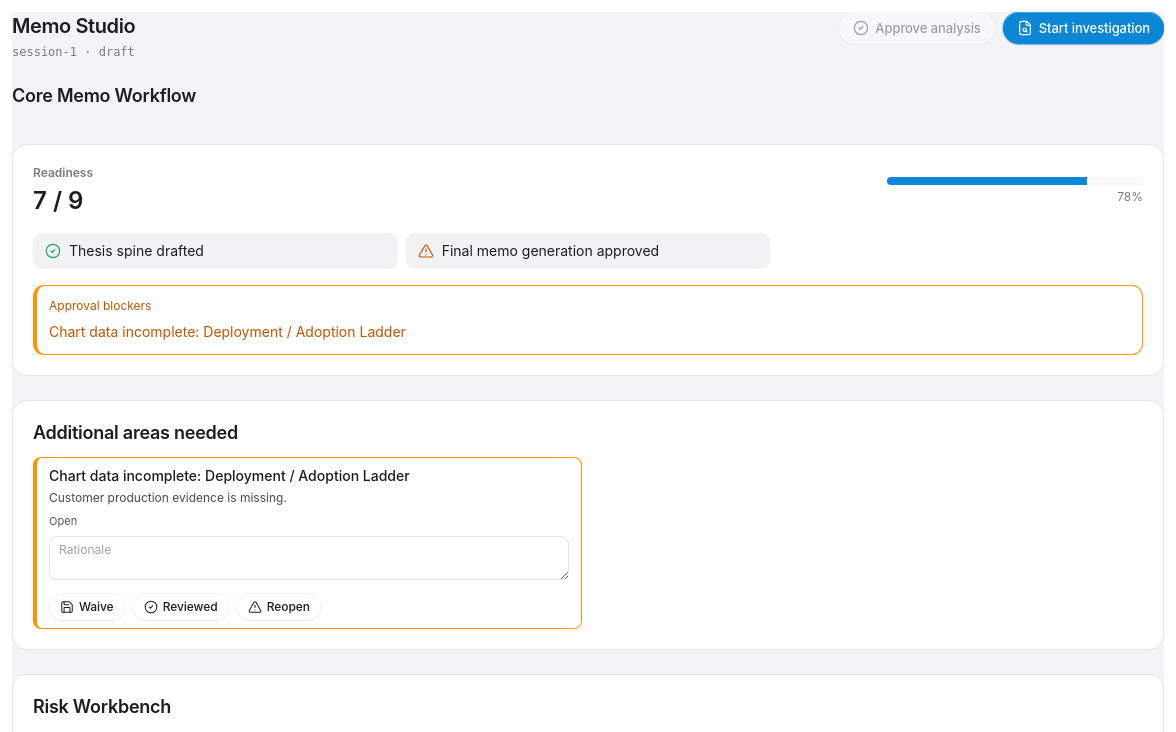
Test: MemoAnalysisDashboard › starts the strategic investigation before report generation
The image size is (1176, 732).
Click the button "Start investigation" at point(1083, 28), box [1003,12,1164,44]
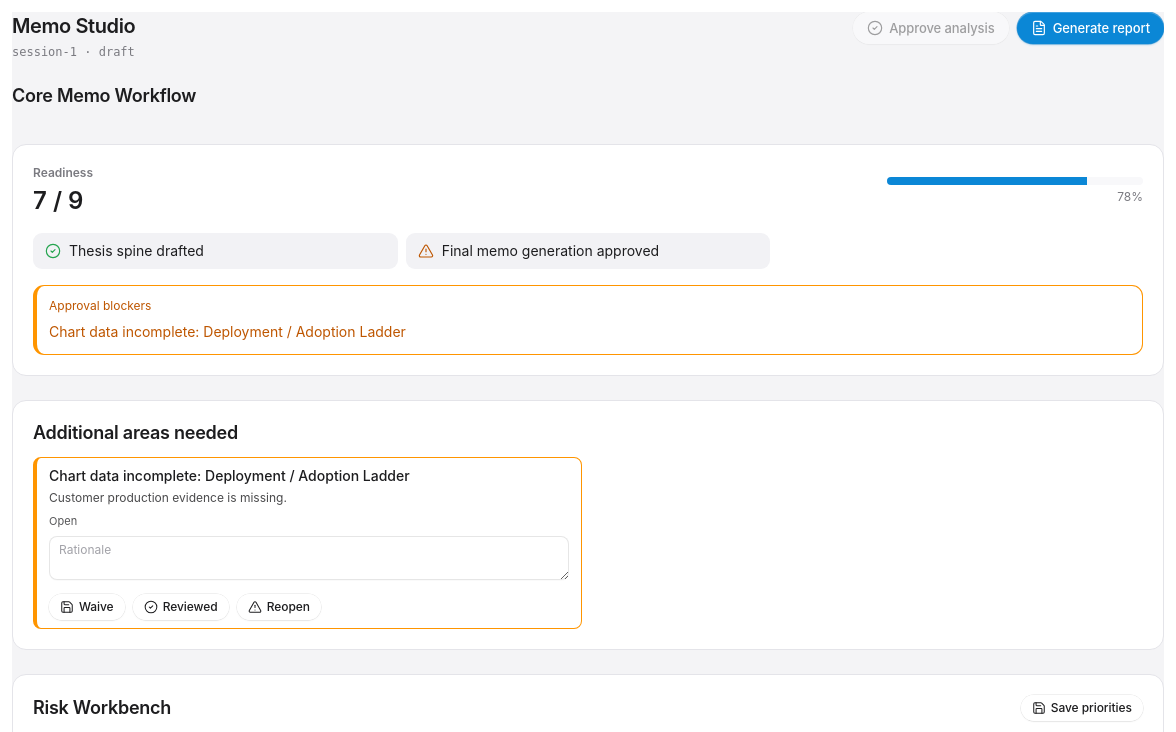
Check: the text "Generate report" is shown, box [1053,18,1150,38]
